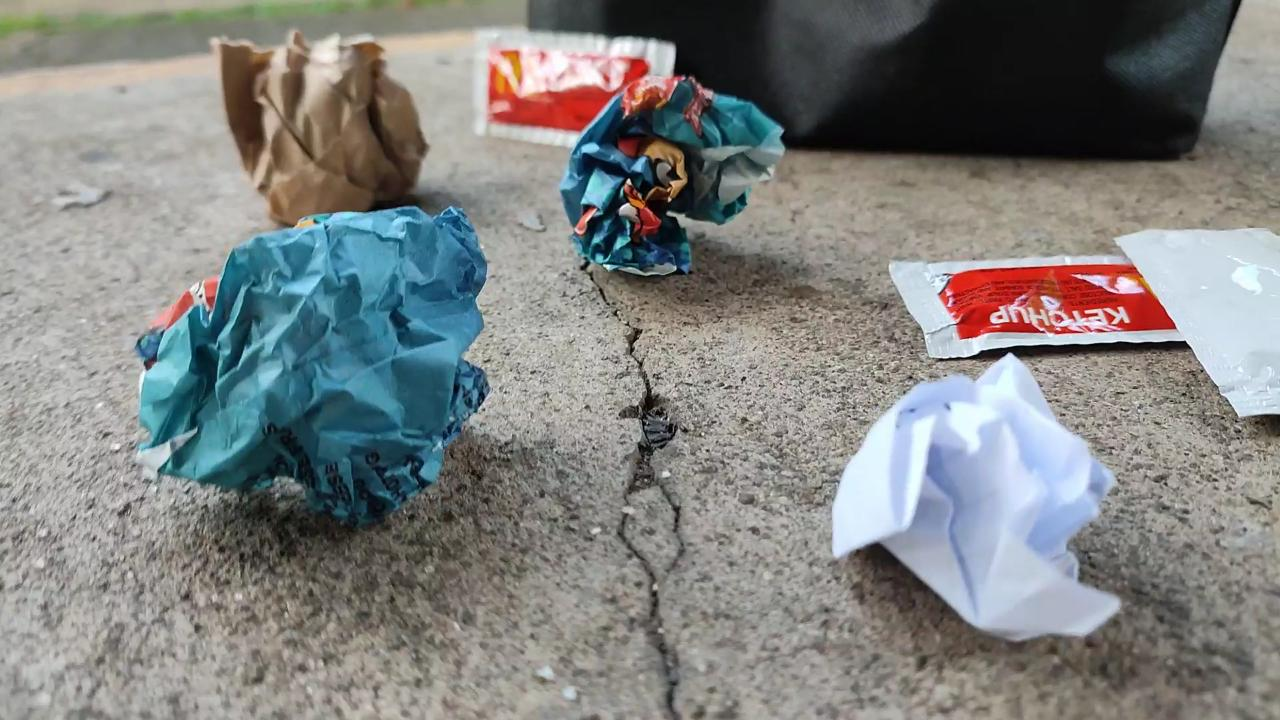paper: (137, 206, 486, 522), (833, 354, 1118, 638), (561, 76, 783, 274), (213, 31, 427, 225)
